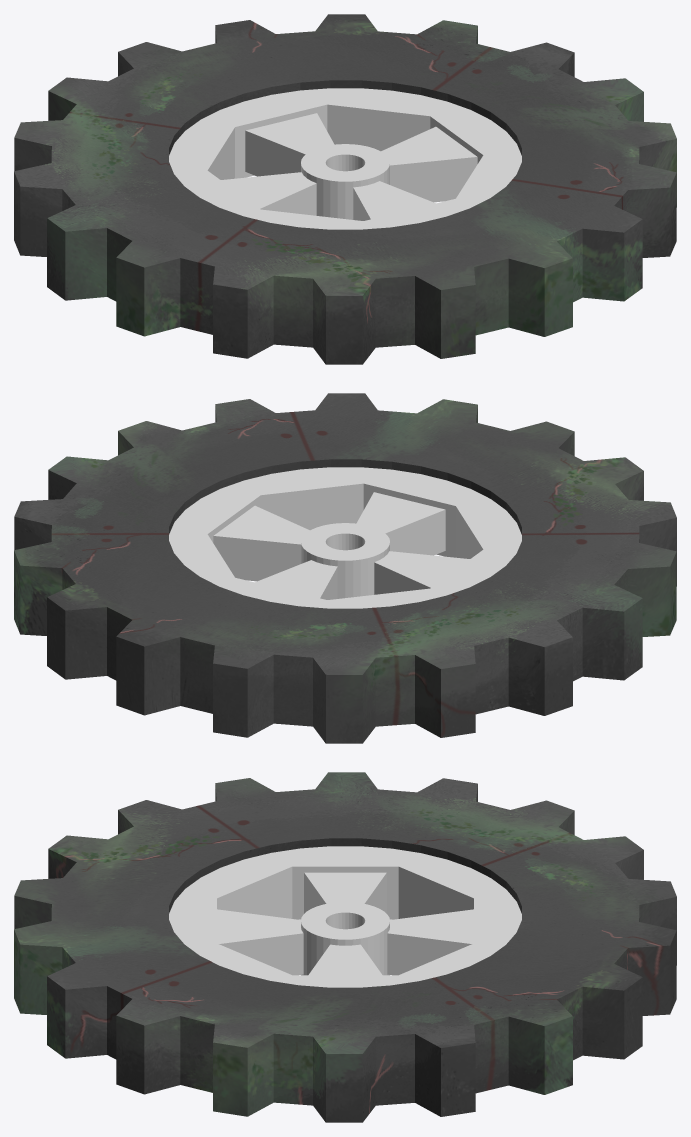
File: newGear2.dae
3 renders of one model, top to bottom at view 1: azimuth 30°, elevation 25°; view 2: azimuth 150°, elevation 25°; view 3: azimuth 270°, elevation 25°, orthographic.
Parts seen in each view (by area): view 1: Circle, Circle.002; view 2: Circle, Circle.002; view 3: Circle, Circle.002.
Part boxes in pixels (x1,y1,x2,y2): Circle: [14, 14, 676, 364]; Circle.002: [169, 88, 521, 229]; Circle: [14, 393, 676, 743]; Circle.002: [169, 467, 521, 608]; Circle: [14, 772, 676, 1122]; Circle.002: [169, 846, 521, 987].
Size of the model in its own units: 2.56 by 2.54 by 0.2918.
Materials: 2 (1 with a texture image).
